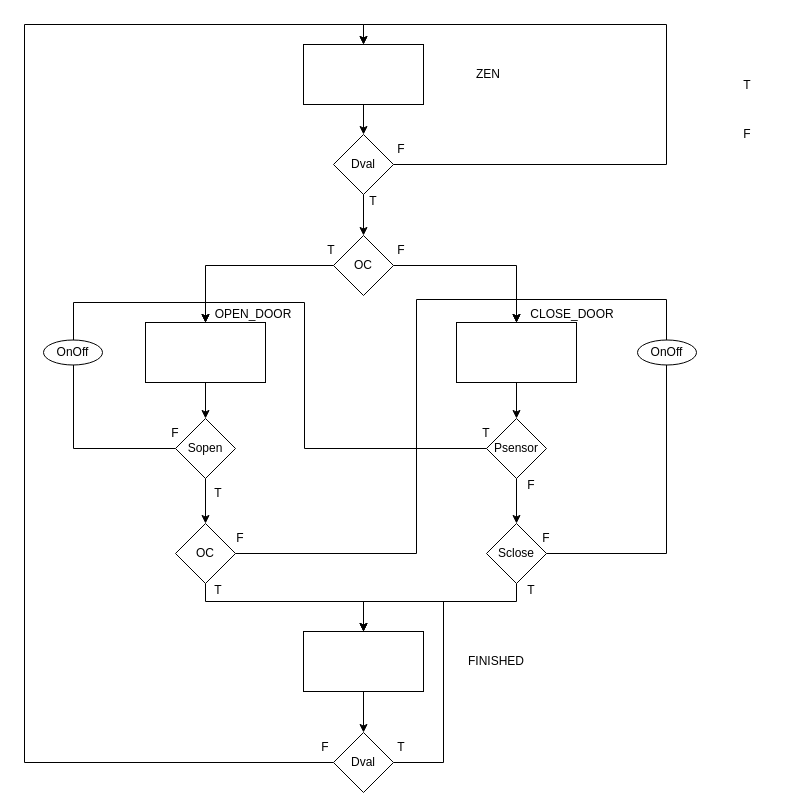
The diagram is 795 pixels wide and 810 high, and some of its shapes have lost their labels. The shapes that lost their labels are listed below. From the top down, each one's centre as x and y in pixels, then its label:
At (x=205, y=352): "OpenClose".
At (x=363, y=661): "done".
